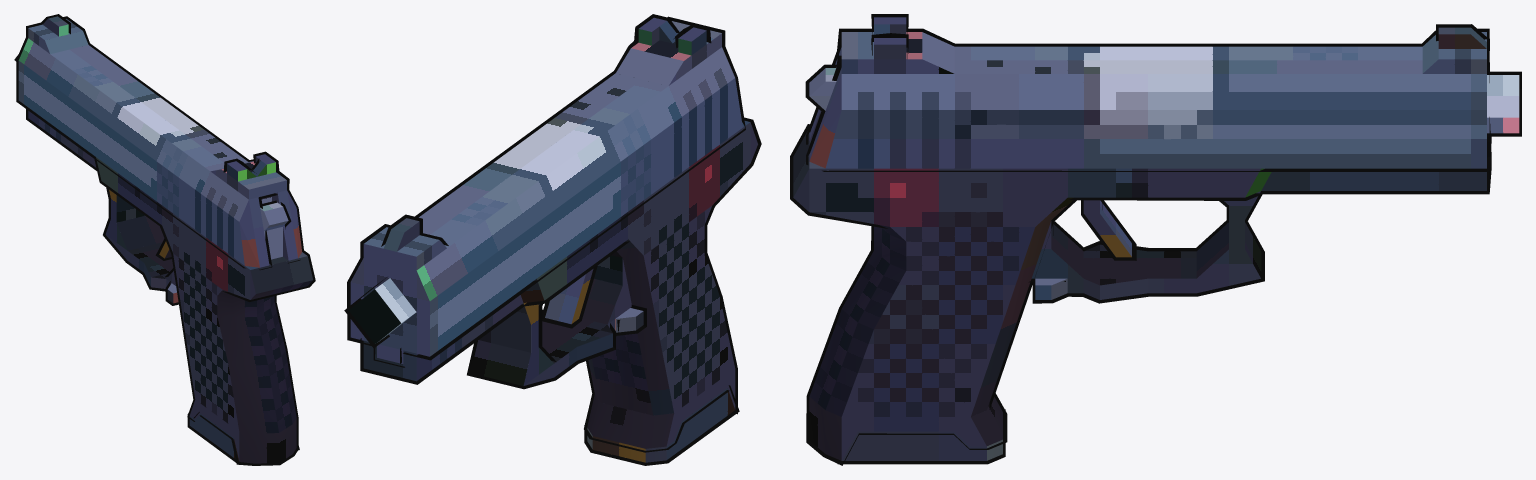
Rendered from pistol.gltf.
3 views of the same model, side by side, from view 1: azimuth 30°, elevation 25°; view 2: azimuth 150°, elevation 25°; view 3: azimuth 270°, elevation 25° (orthographic). The views are drawn at different scales.
Visible parts, largest first — view 1: slide, frame, frame_001, slide_001, hammer, magazine; view 2: slide, frame, slide_001, frame_001, magazine, barrel, trigger, magazine_001, mag release, trigger_001; view 3: slide, frame, frame_001, slide_001, magazine, barrel, trigger, hammer, magazine_001.
Boxes of the visible parts, x1,y1,x2,y2 form: slide: (18,16,301,267); frame: (28,111,312,463); frame_001: (26,109,315,465); slide_001: (16,14,304,270); hammer: (260,202,288,259); magazine: (189,414,239,461); slide: (350,17,742,363); frame: (363,121,757,448); slide_001: (347,14,745,367); frame_001: (360,117,761,452); magazine: (587,388,734,462); barrel: (348,278,416,343); trigger: (545,269,593,324); magazine_001: (584,385,739,465); mag release: (615,308,643,332); trigger_001: (542,266,597,328); slide: (809,17,1486,168); frame: (793,131,1486,460); frame_001: (790,124,1491,465); slide_001: (806,14,1491,172); magazine: (842,431,1002,460); barrel: (1487,75,1519,133); trigger: (1083,200,1131,257); hammer: (809,68,836,110); magazine_001: (837,409,1005,464).
Bounding box in the file's own units: 0.4055 × 1.78 × 2.84.
1 material, 1 textured.
